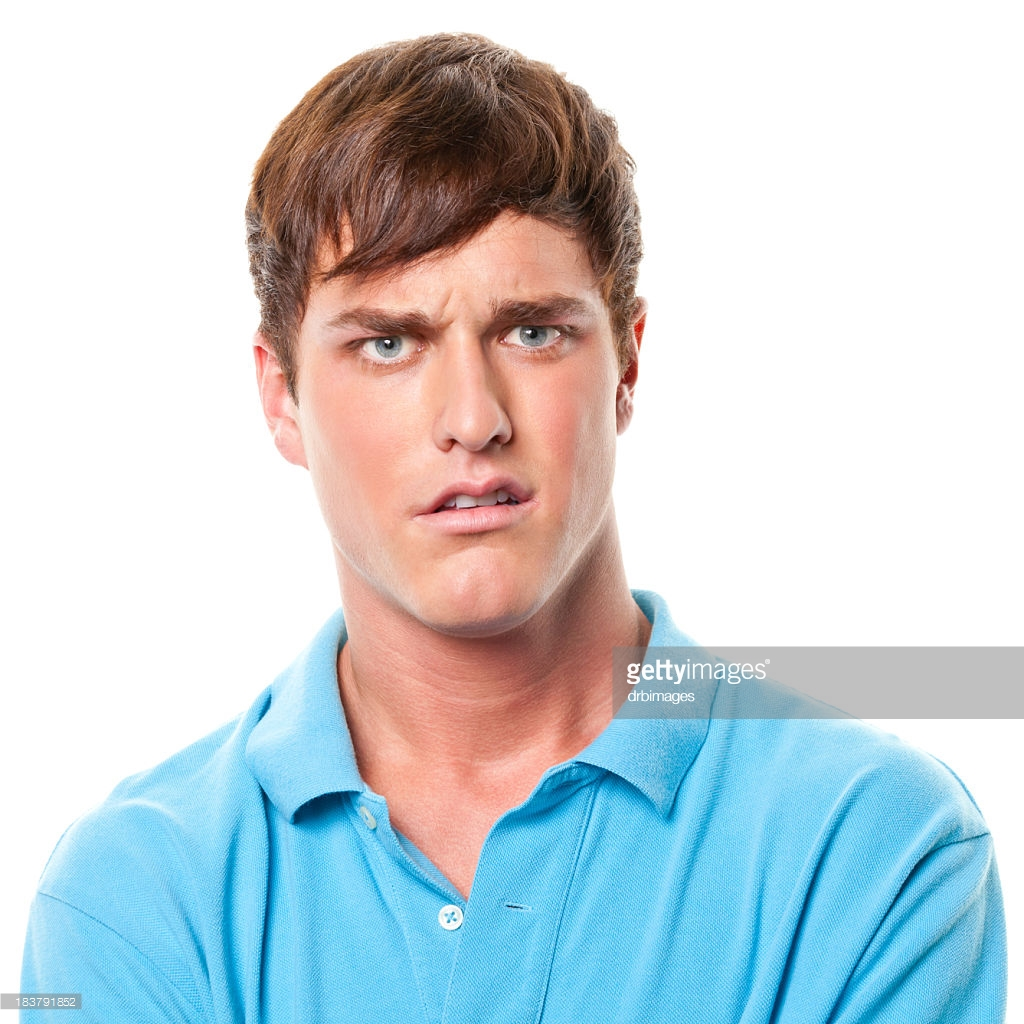confused: (289, 229, 618, 649)
